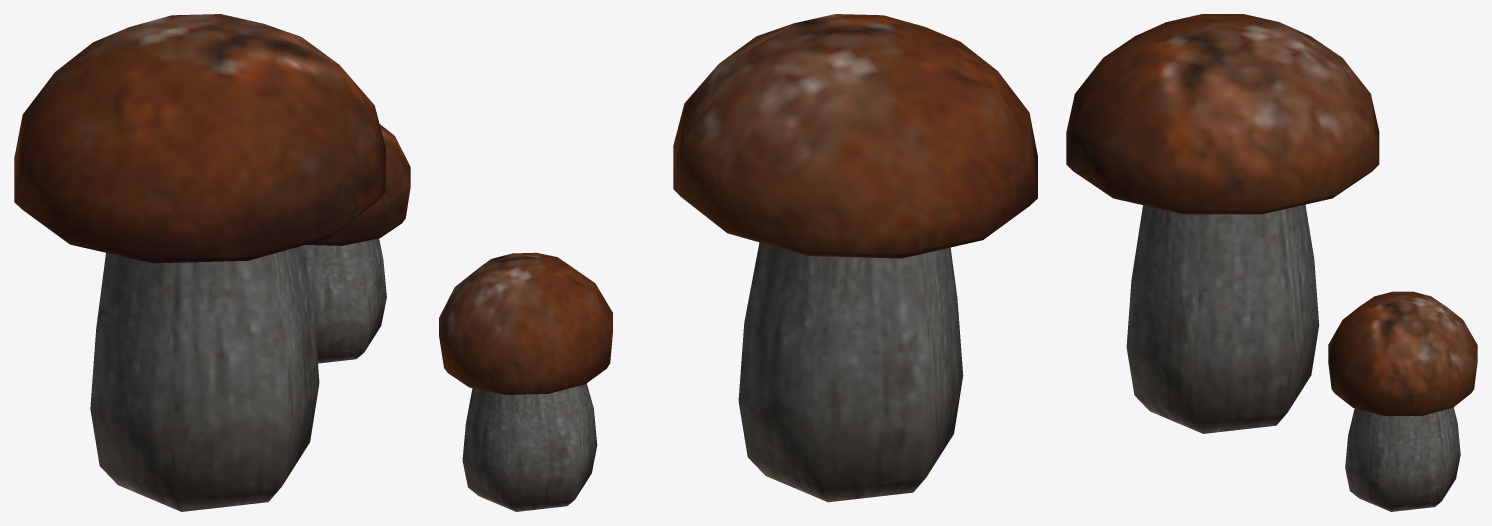
Rendered from mushroom_n_1_2.fbx.
The picture shows the model from 3 angles, left to right: view 1: azimuth 30°, elevation 25°; view 2: azimuth 150°, elevation 25°; view 3: azimuth 270°, elevation 25°; orthographic projection. The views are drawn at different scales.
Visible parts, largest first — view 1: mushroom_n_1_2; view 2: mushroom_n_1_2; view 3: mushroom_n_1_2.
Part boxes in pixels (x1,y1,x2,y2): mushroom_n_1_2: (14, 14, 410, 511); mushroom_n_1_2: (439, 14, 1037, 511); mushroom_n_1_2: (1066, 14, 1477, 511).
Bounding box in the file's own units: 0.1455 × 0.1306 × 0.1319.
1 material, 1 textured.
